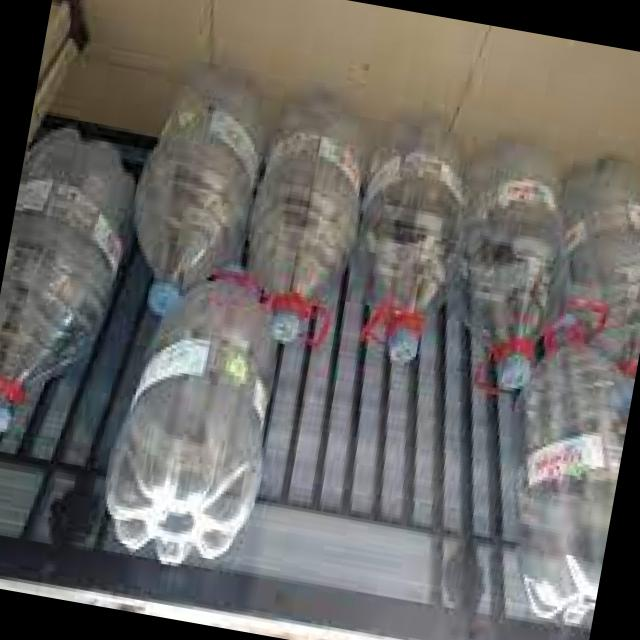Galon: (108, 44, 640, 422), (88, 257, 302, 578), (0, 107, 151, 493), (474, 336, 638, 622)
